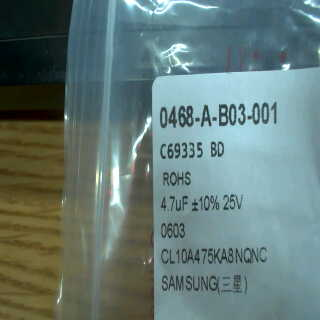4.7uF: (157, 193, 190, 217)
